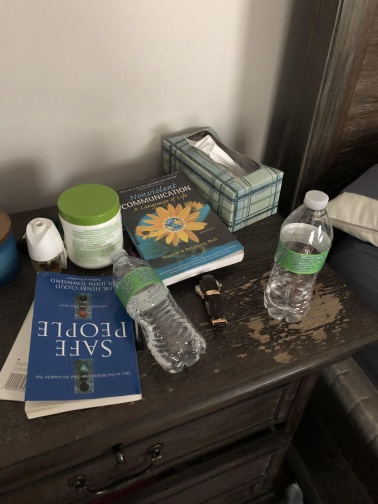bottle: (106, 250, 210, 375), (260, 187, 335, 326)
